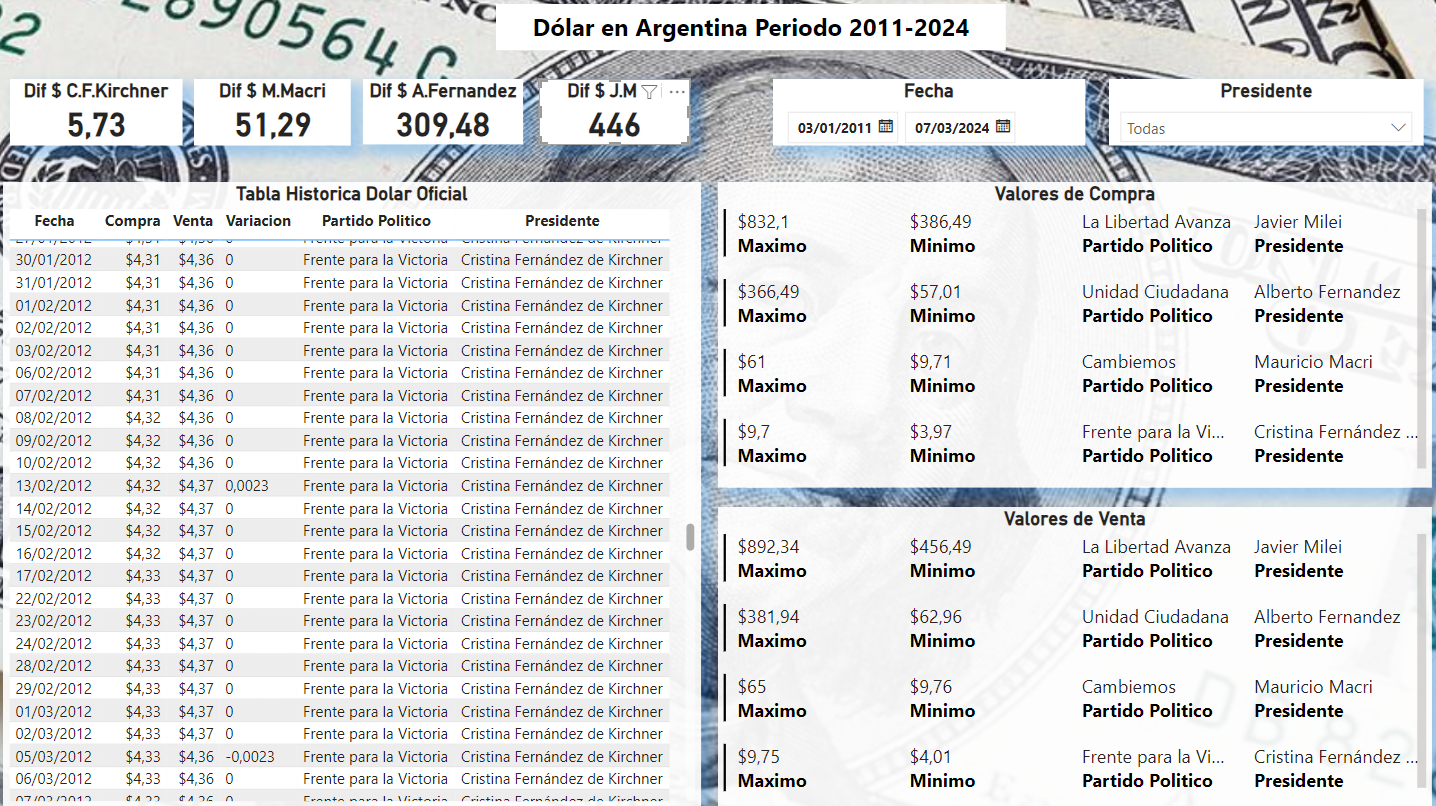

This screenshot's page, from the dashboard's own definition file:
{"tool":"powerbi","page":{"name":"Informacion","canvas":[1280,720],"ordinal":1},"visuals":[{"type":"tableEx","title":"Tabla Historica Dolar Oficial","fields":{"Values":["Sheet1.Fecha","Sheet1.compra","Sheet1.venta","Sheet1.variacion","Sheet1.Partido Politico","Sheet1.Presidente"]},"box":[5.8,165.3,618.6,554.4],"z":0},{"type":"multiRowCard","title":"Valores de Compra","fields":{"Values":["Sheet1.COMPRA_DEC","Sheet1.COMPRA_DEC","Sheet1.Partido Politico","Sheet1.Presidente"]},"box":[640.2,164.9,633.1,271.3],"z":1000},{"type":"multiRowCard","title":"Valores de Venta","fields":{"Values":["Sheet1.VENTA_DEC","Sum(Sheet1.VENTA_DEC)1","Sheet1.Partido Politico","Sheet1.Presidente"]},"box":[640.2,453.1,633.1,266],"z":2000},{"type":"card","title":"Dif $ C.F.Kirchner","fields":{"Values":["Sheet1.Diferencia_Cristina_Fernandez_de_Kirchner"]},"box":[12.4,73.6,152.5,58.5],"z":3000},{"type":"card","title":"Dif $ M.Macri","fields":{"Values":["Sheet1.Diferencia_Mauricio_Macri"]},"box":[175.6,73.6,139.2,58.5],"z":4000},{"type":"card","title":"Dif $ A.Fernandez","fields":{"Values":["Sheet1.Diferencia_Alberto_Fernandez"]},"box":[325.8,73.9,142,58.4],"z":5000},{"type":"card","title":"Dif $ J.Milei","fields":{"Values":["Sheet1.Diferencia_Javier_Milei"]},"box":[481.5,73.9,134.2,58.4],"z":6000},{"type":"textbox","box":[443.3,7.1,452.2,40.8],"z":7000},{"type":"slicer","title":"Fecha","fields":{"Values":["Sheet1.Fecha"]},"box":[689,73.6,276.7,58.5],"z":8000},{"type":"slicer","title":"Presidente","fields":{"Values":["Sheet1.Presidente"]},"box":[986.9,73.6,279.3,58.5],"z":9000}]}

Visuals, with their boxes in screenshot pixels (x1, y1, x2, y2), scaled from the page's 1280x720 canvas onto the 1436x806 screenshot:
"Tabla Historica Dolar Oficial" tableEx: x1=7, y1=185, x2=700, y2=805
"Valores de Compra" multiRowCard: x1=718, y1=185, x2=1428, y2=488
"Valores de Venta" multiRowCard: x1=718, y1=507, x2=1428, y2=805
"Dif $ C.F.Kirchner" card: x1=14, y1=82, x2=185, y2=148
"Dif $ M.Macri" card: x1=197, y1=82, x2=353, y2=148
"Dif $ A.Fernandez" card: x1=366, y1=83, x2=525, y2=148
"Dif $ J.Milei" card: x1=540, y1=83, x2=691, y2=148
textbox: x1=497, y1=8, x2=1005, y2=54
"Fecha" slicer: x1=773, y1=82, x2=1083, y2=148
"Presidente" slicer: x1=1107, y1=82, x2=1421, y2=148
